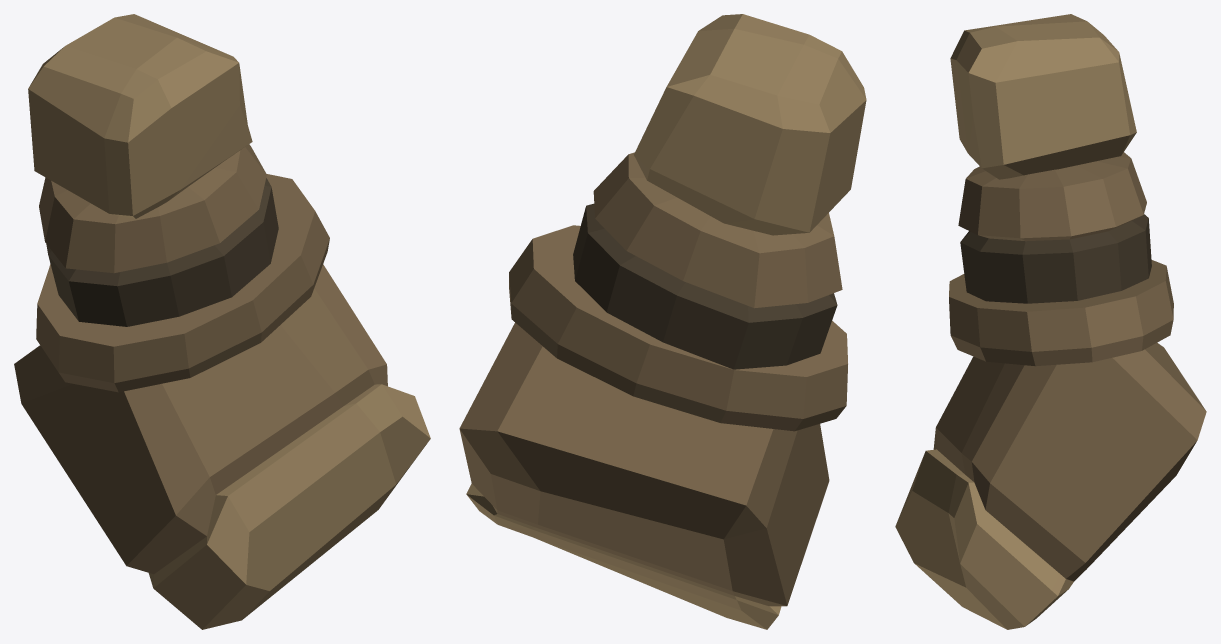
The model's file is leg_l_lower.gltf.
3 renders of one model, left to right at view 1: azimuth 30°, elevation 25°; view 2: azimuth 150°, elevation 25°; view 3: azimuth 270°, elevation 25°, orthographic. The views are drawn at different scales.
Visible parts, largest first — view 1: leg_l_lower; view 2: leg_l_lower; view 3: leg_l_lower.
Boxes of the visible parts, <box> form: leg_l_lower: <box>14,14,430,629</box>; leg_l_lower: <box>459,14,866,629</box>; leg_l_lower: <box>895,14,1206,629</box>.
Bounding box in the file's own units: 2.82 × 4.41 × 2.26.
Materials: 1 (1 with a texture image).
